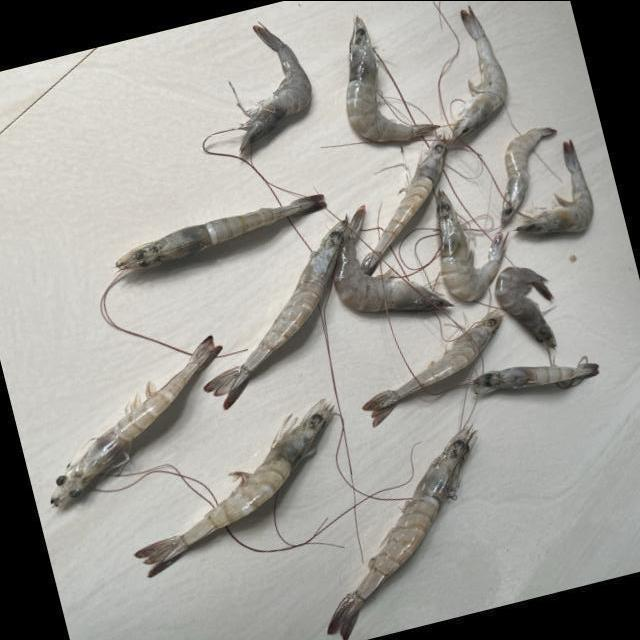shrimp: (134, 398, 333, 576), (328, 427, 477, 640), (50, 335, 221, 505), (204, 220, 346, 408), (363, 308, 505, 425), (115, 194, 326, 268), (334, 204, 453, 310), (346, 15, 439, 140), (361, 138, 447, 273), (232, 23, 311, 149), (437, 189, 505, 300), (515, 138, 594, 233), (452, 4, 508, 138), (502, 125, 556, 222), (496, 266, 556, 347), (473, 355, 600, 393)
